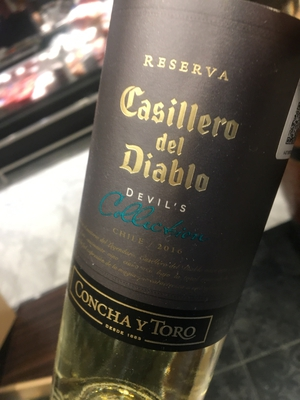casillero del diablo devils collection verde: (74, 1, 295, 394)
